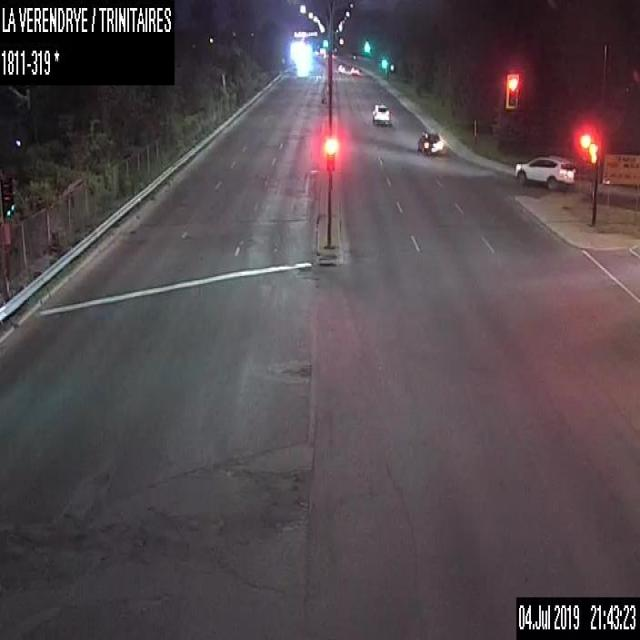vehicle: (514, 152, 576, 189), (417, 130, 440, 153), (371, 103, 391, 126), (349, 64, 358, 73), (337, 63, 344, 72)
